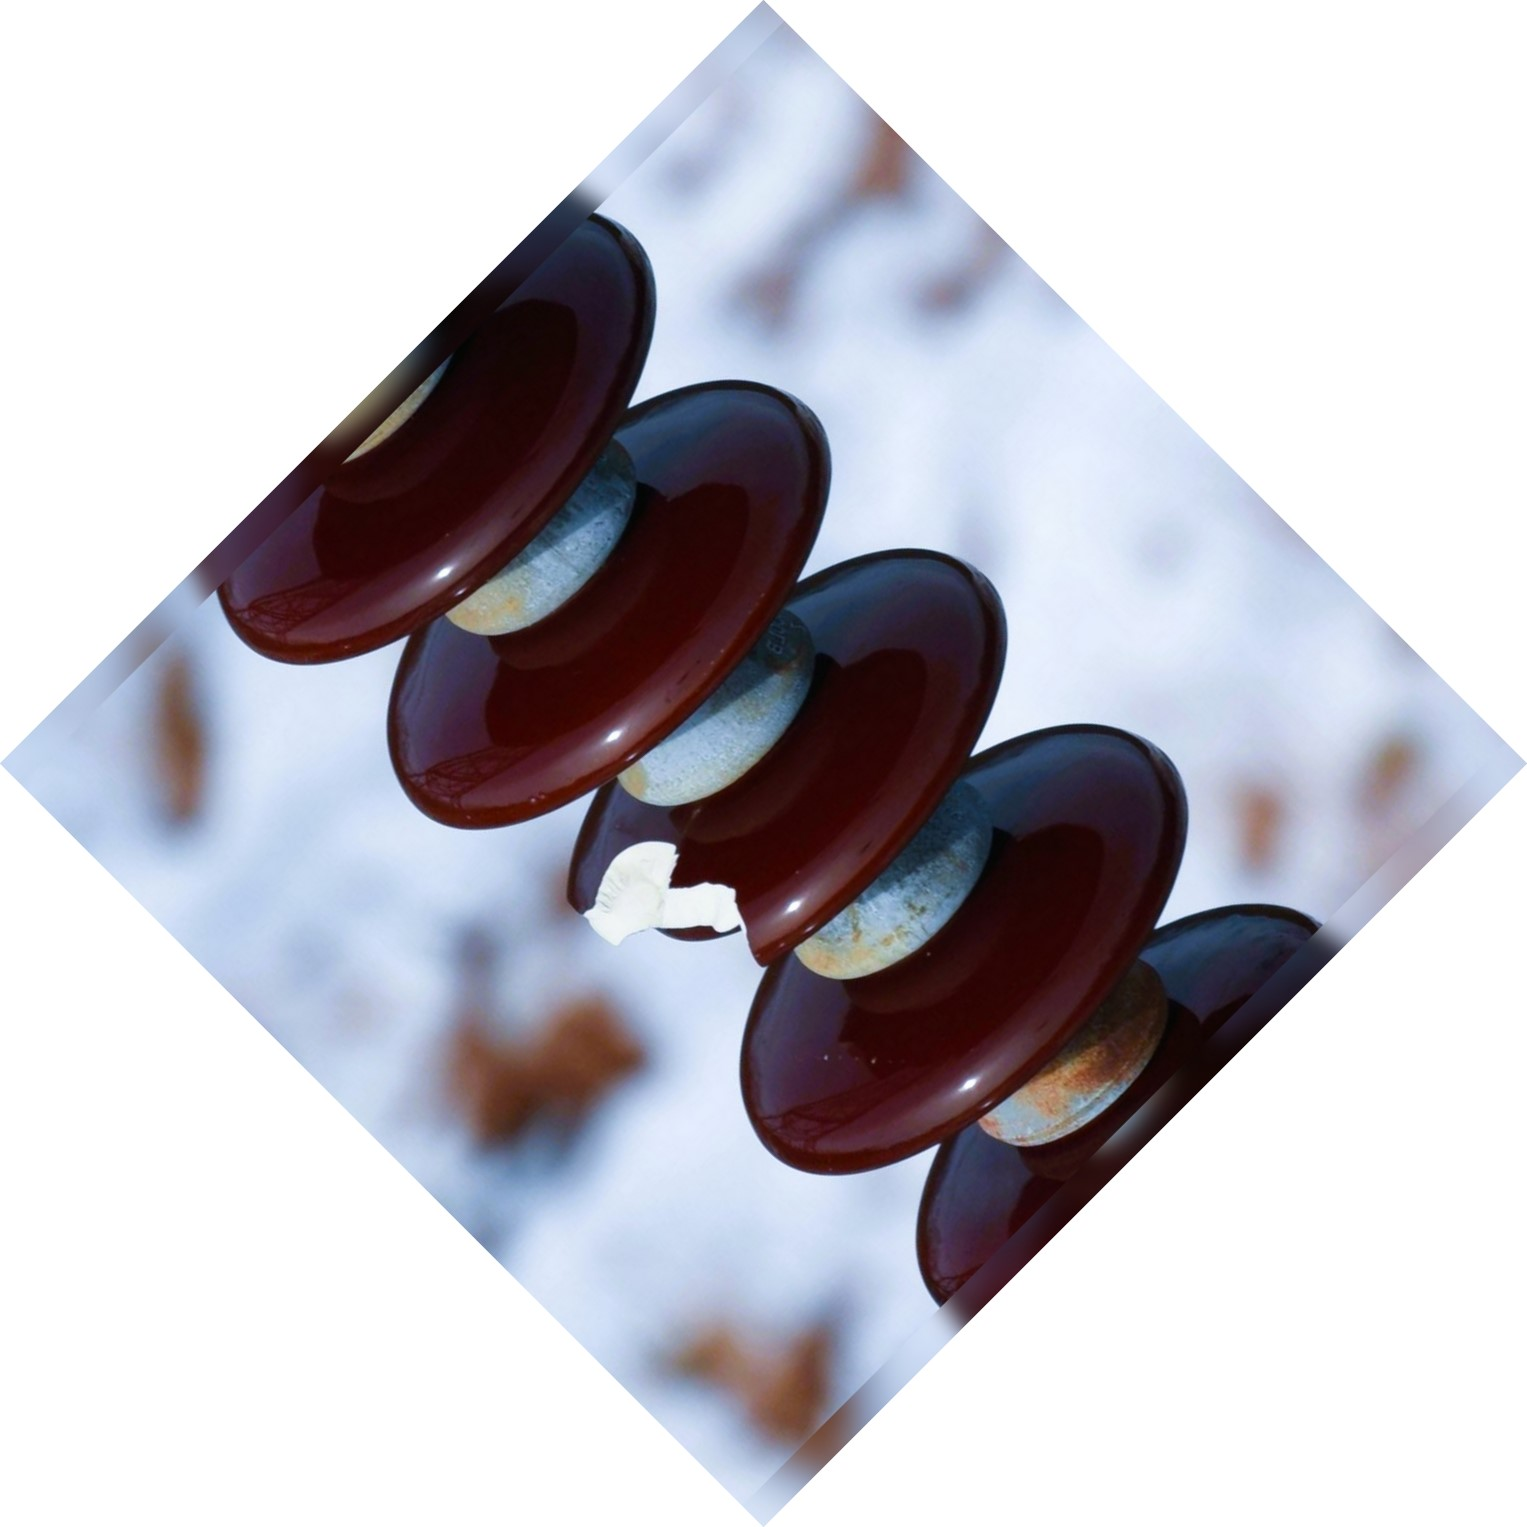insulator breakage: (536, 538, 1024, 977)
